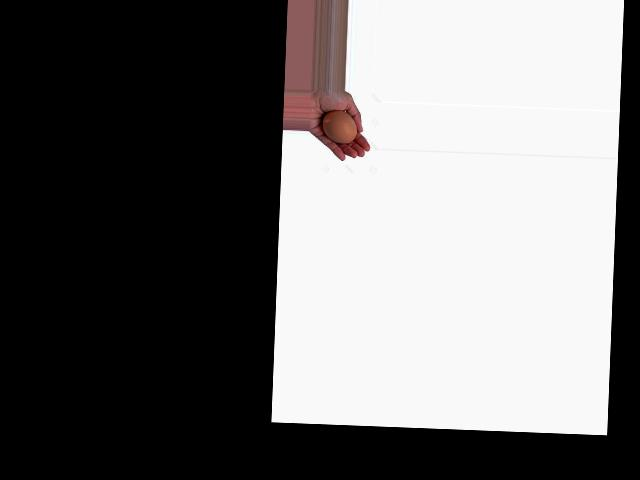egg: (321, 110, 357, 144)
